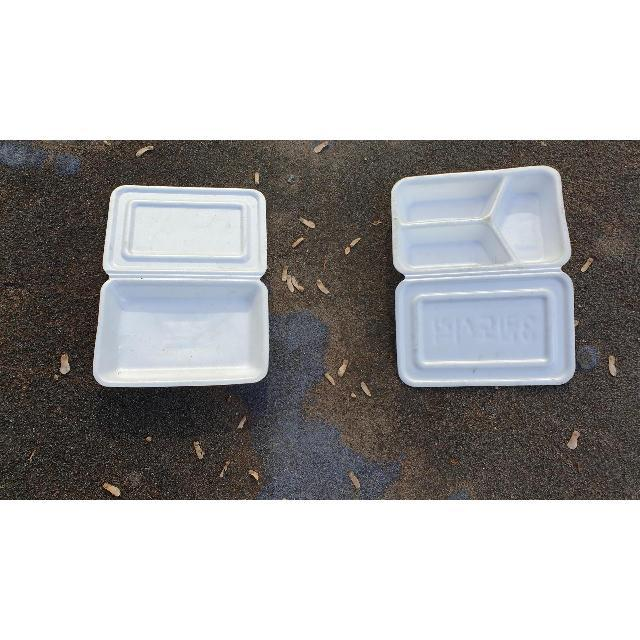Plastico descartable: (393, 167, 577, 392), (93, 185, 270, 389)
